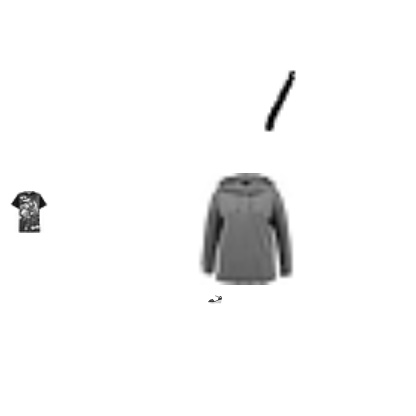1: (235, 59, 319, 143)
8: (240, 191, 254, 205)
Pullover: (188, 173, 300, 285)
Sandal: (208, 292, 222, 306)
T-shirt/top: (8, 191, 50, 233)
